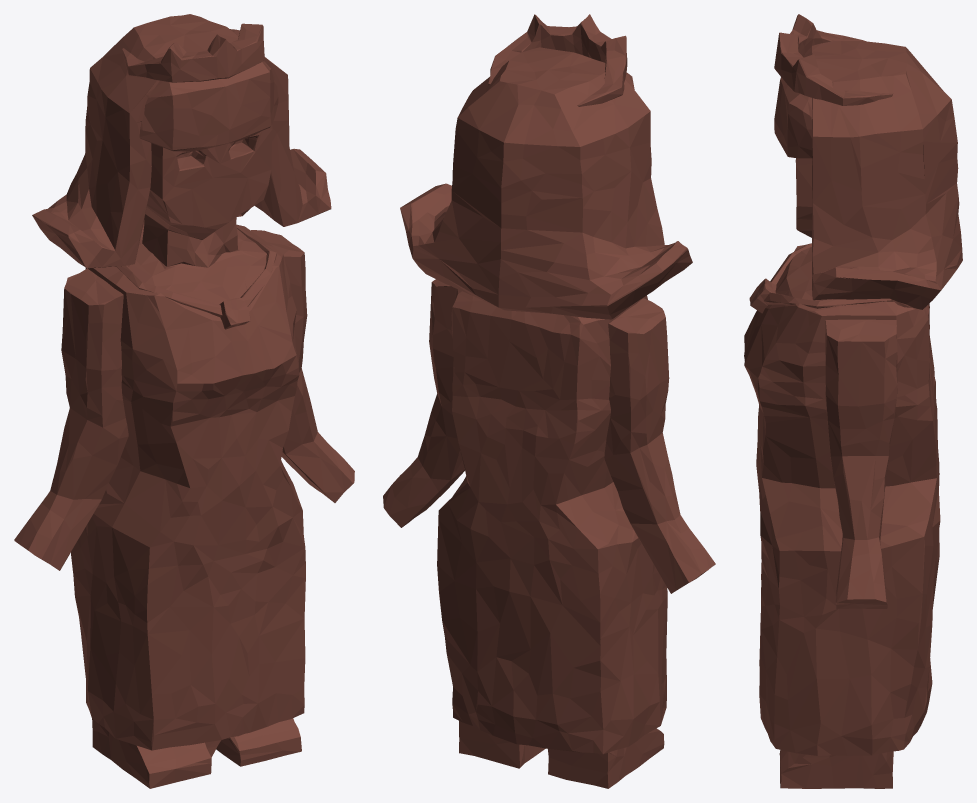
Rendered from queenMia.fbx.
The picture shows the model from 3 angles, left to right: view 1: azimuth 30°, elevation 25°; view 2: azimuth 150°, elevation 25°; view 3: azimuth 270°, elevation 25°; orthographic projection. The views are drawn at different scales.
Visible parts, largest first — view 1: Mia; view 2: Mia; view 3: Mia.
Part boxes in pixels (left/top/right/bottom): Mia: left=14, top=14, right=354, bottom=788; Mia: left=383, top=14, right=715, bottom=788; Mia: left=744, top=14, right=962, bottom=788.
Size of the model in its own units: 527 by 1128 by 310.
